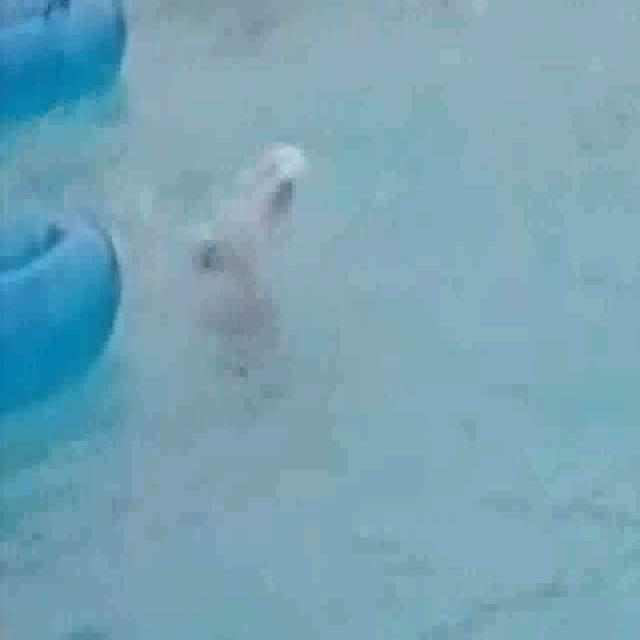Out of Water: (155, 160, 293, 340)
